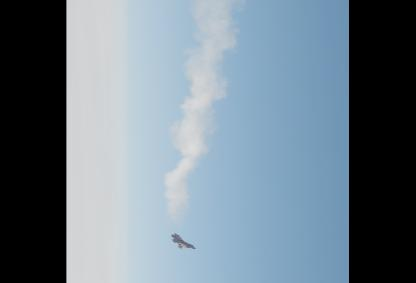F22: (171, 231, 196, 248)
